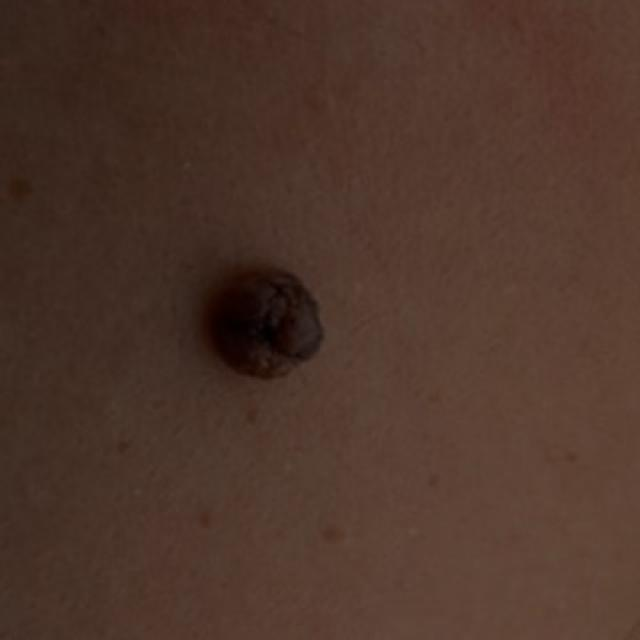wart: (172, 233, 382, 428)
